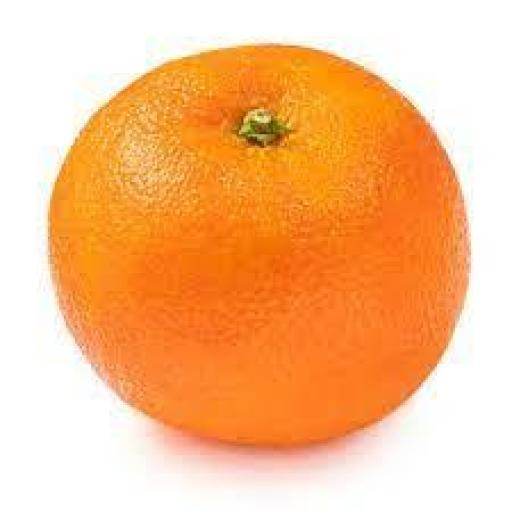orange: (51, 46, 468, 446)
